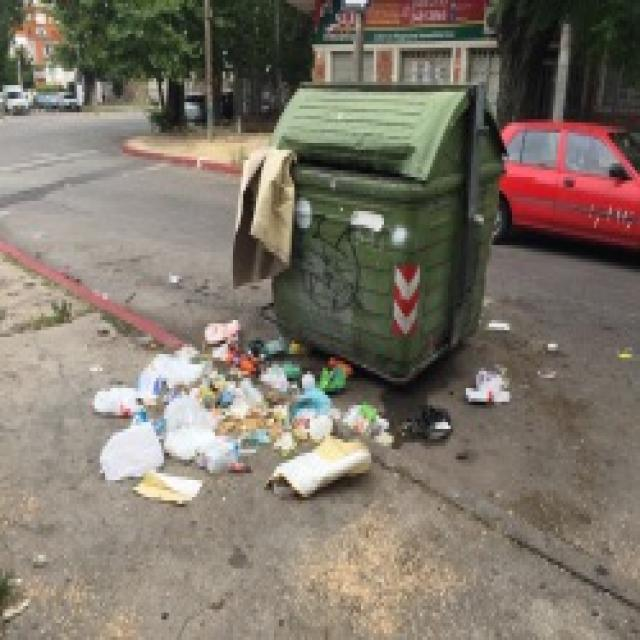garbage: (87, 316, 389, 500), (226, 136, 294, 286), (464, 358, 509, 405)
